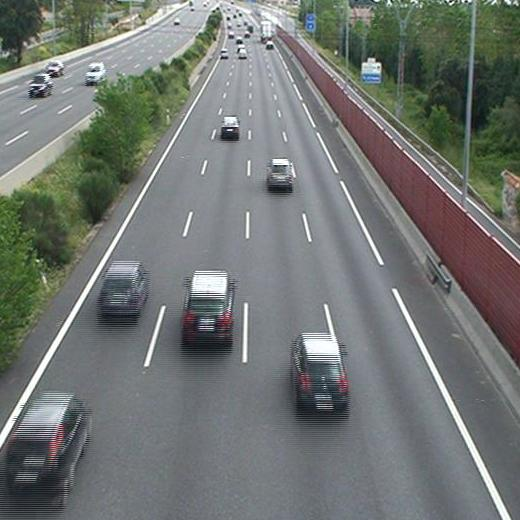car: (6, 395, 89, 484), (293, 335, 348, 404), (183, 271, 234, 335), (105, 263, 145, 311), (268, 159, 292, 187), (221, 116, 239, 134), (237, 50, 247, 58), (220, 50, 229, 58)
